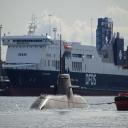submarine: (16, 33, 95, 111)
